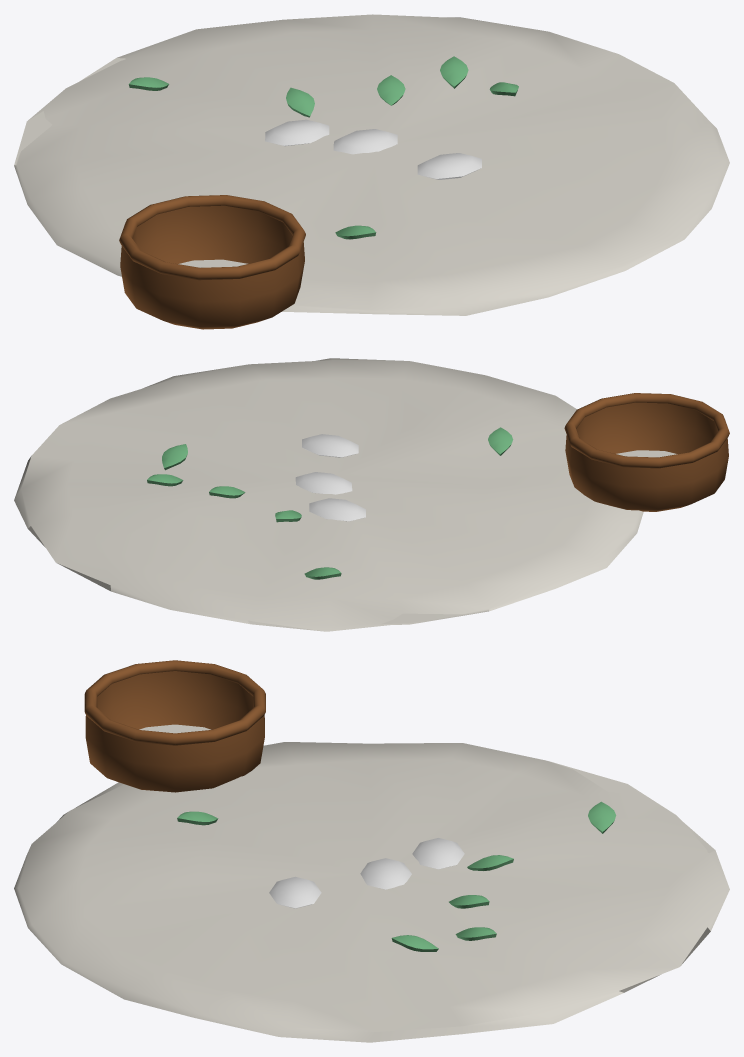
The model's file is d_yogurt.fbx.
3 views of the same model, one above another, from view 1: azimuth 30°, elevation 25°; view 2: azimuth 150°, elevation 25°; view 3: azimuth 270°, elevation 25° (orthographic). The views are drawn at different scales.
Parts seen in each view (by area): view 1: d_yogurt; view 2: d_yogurt; view 3: d_yogurt.
Part boxes in pixels (left/top/right/bottom): d_yogurt: left=14, top=14, right=729, bottom=329; d_yogurt: left=14, top=358, right=729, bottom=631; d_yogurt: left=14, top=660, right=729, bottom=1042.
Bounding box in the file's own units: 3.39 × 0.3699 × 3.27.
